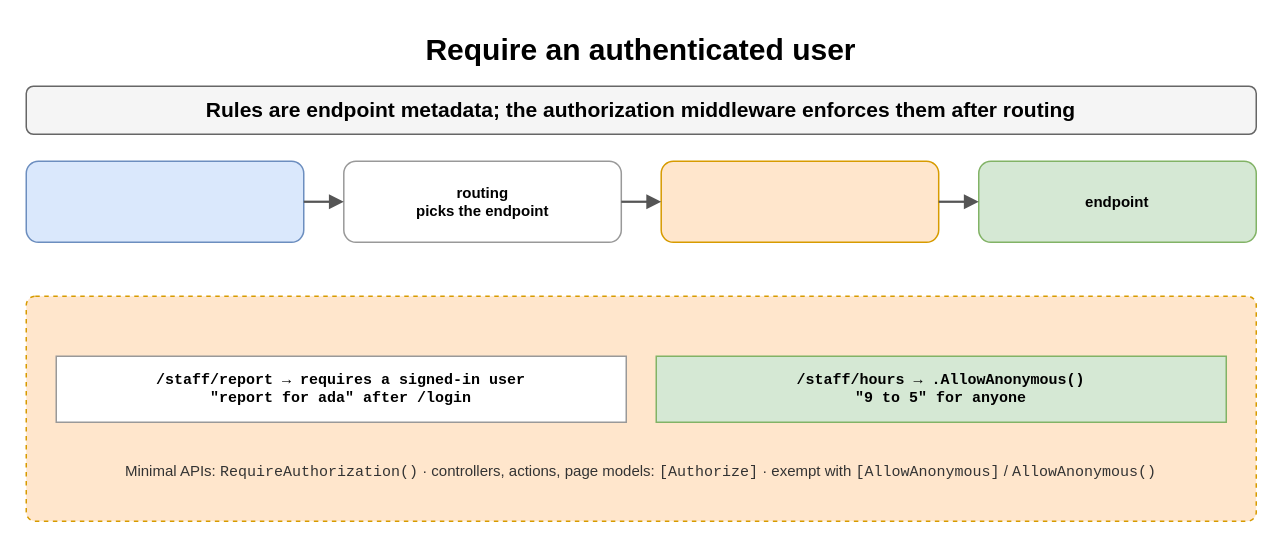
This 1283x548 diagram has some shape labels left out. Each missing label, with the box of its shape:
app.MapGroup("/staff").RequireAuthorization(): (25, 295, 1256, 521)
authentication sets User: (25, 160, 304, 242)
authorization middleware reads its metadata: (660, 160, 939, 242)
